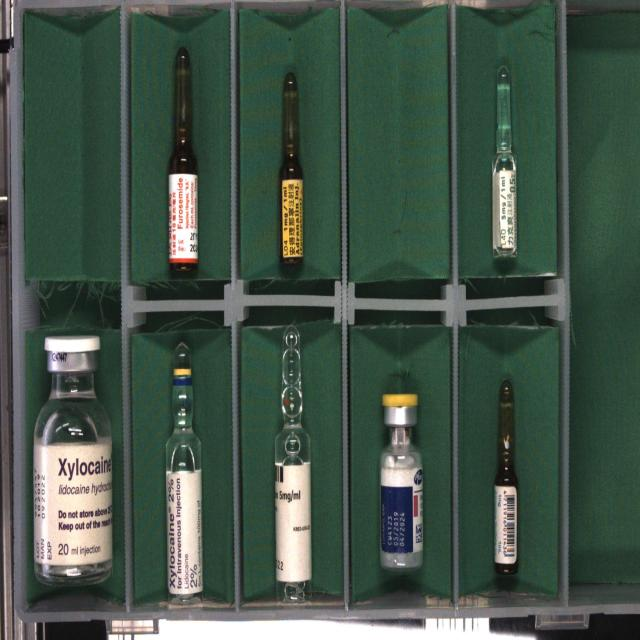Vials: (33, 335, 112, 583), (380, 394, 423, 570)
